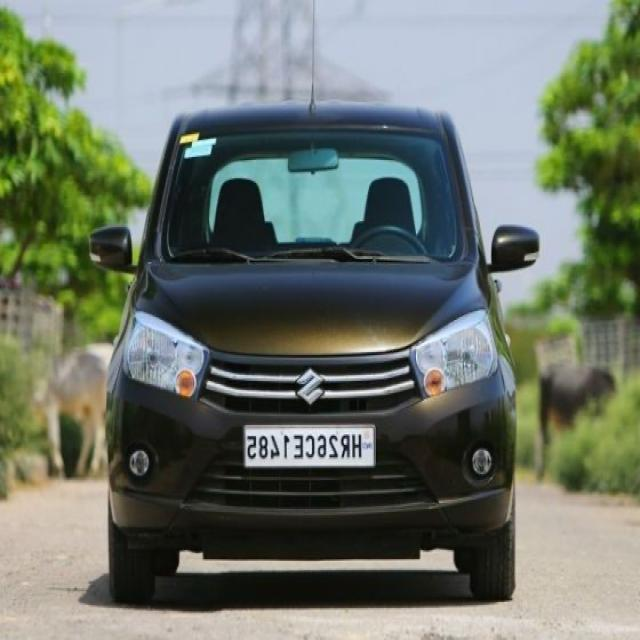number-plate: (228, 426, 368, 474)
